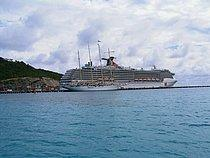Ship: (59, 37, 182, 94)
